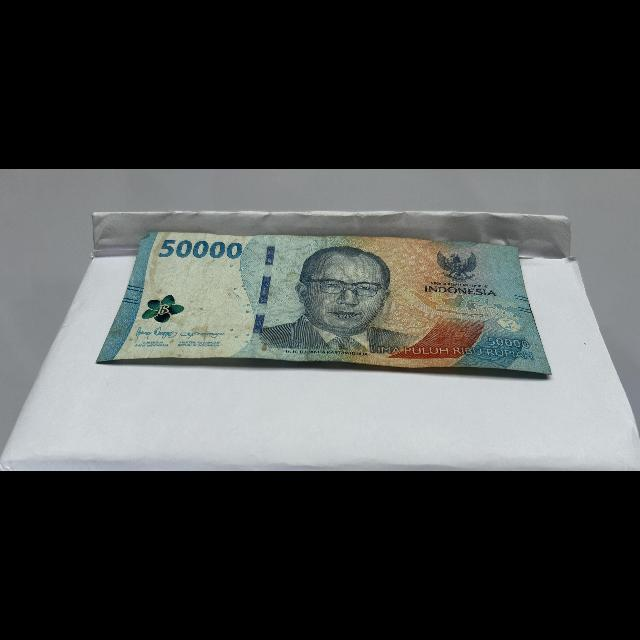Asli-50k: (92, 226, 559, 381)
Tinta-Asli-50k: (138, 292, 188, 325)
